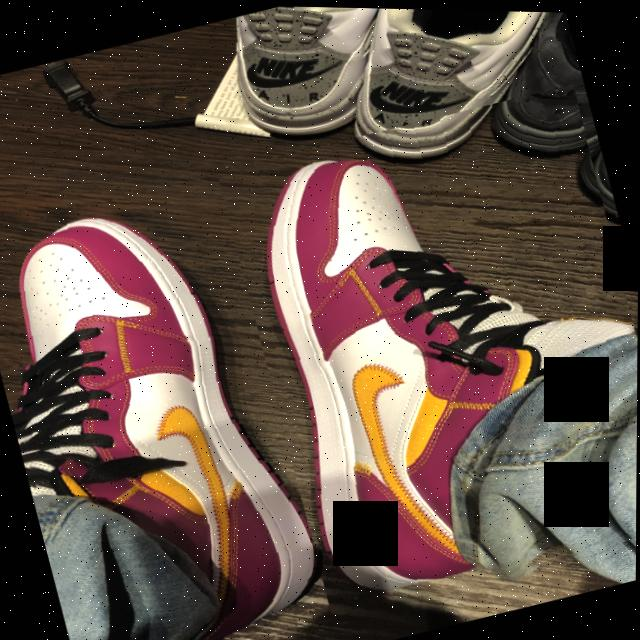shoe: (214, 74, 640, 627), (0, 165, 347, 640)
